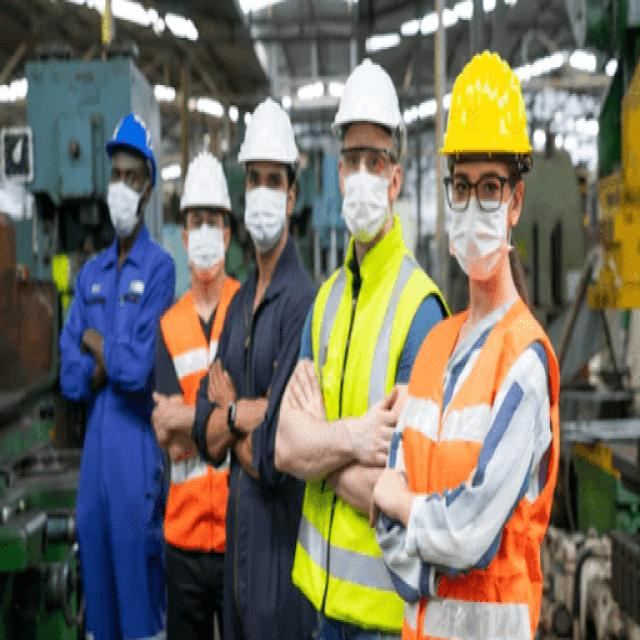Reflective-Jacket: (292, 226, 428, 629), (402, 296, 562, 634), (158, 282, 242, 553)
Safety-Helmet: (436, 47, 535, 166), (330, 54, 405, 141), (236, 94, 302, 168), (176, 146, 232, 220), (104, 108, 158, 164)
